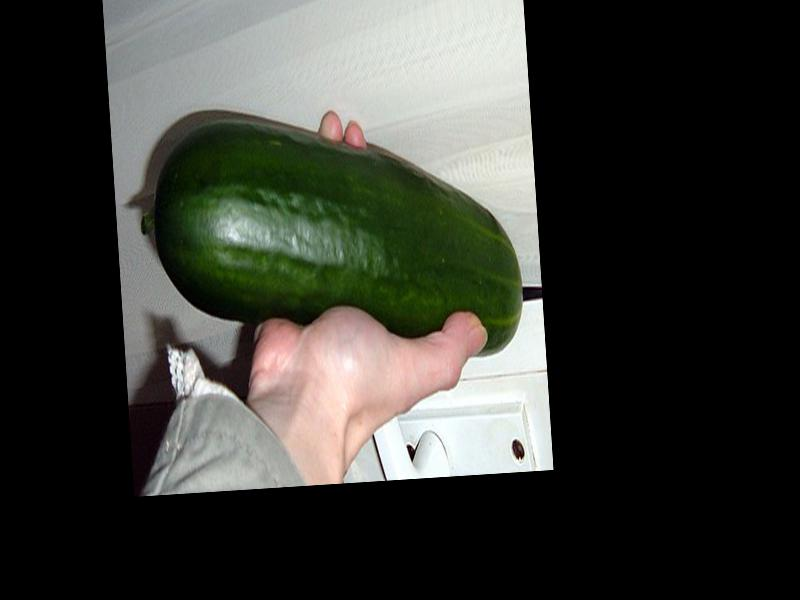Cucumber: (133, 92, 526, 375)
